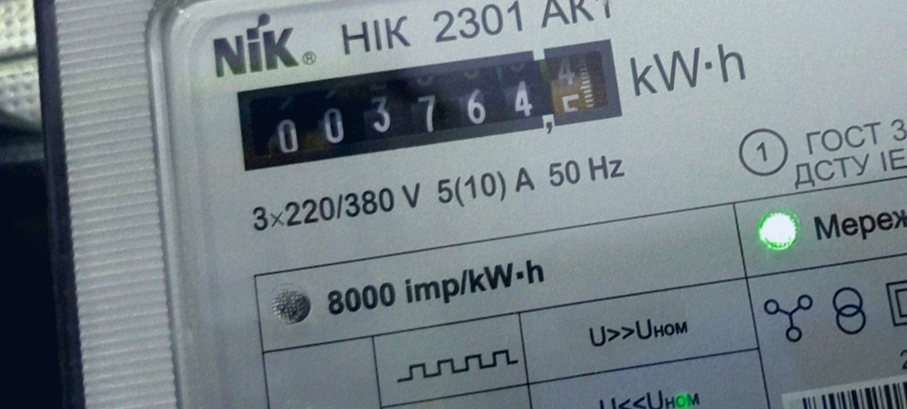0: (272, 114, 301, 155), (319, 104, 346, 146)
3: (366, 92, 394, 135)
4: (509, 77, 534, 119), (552, 53, 578, 87)
5: (558, 91, 583, 115)
6: (462, 85, 488, 126)
7: (414, 90, 442, 135)
screen: (216, 19, 639, 187)
